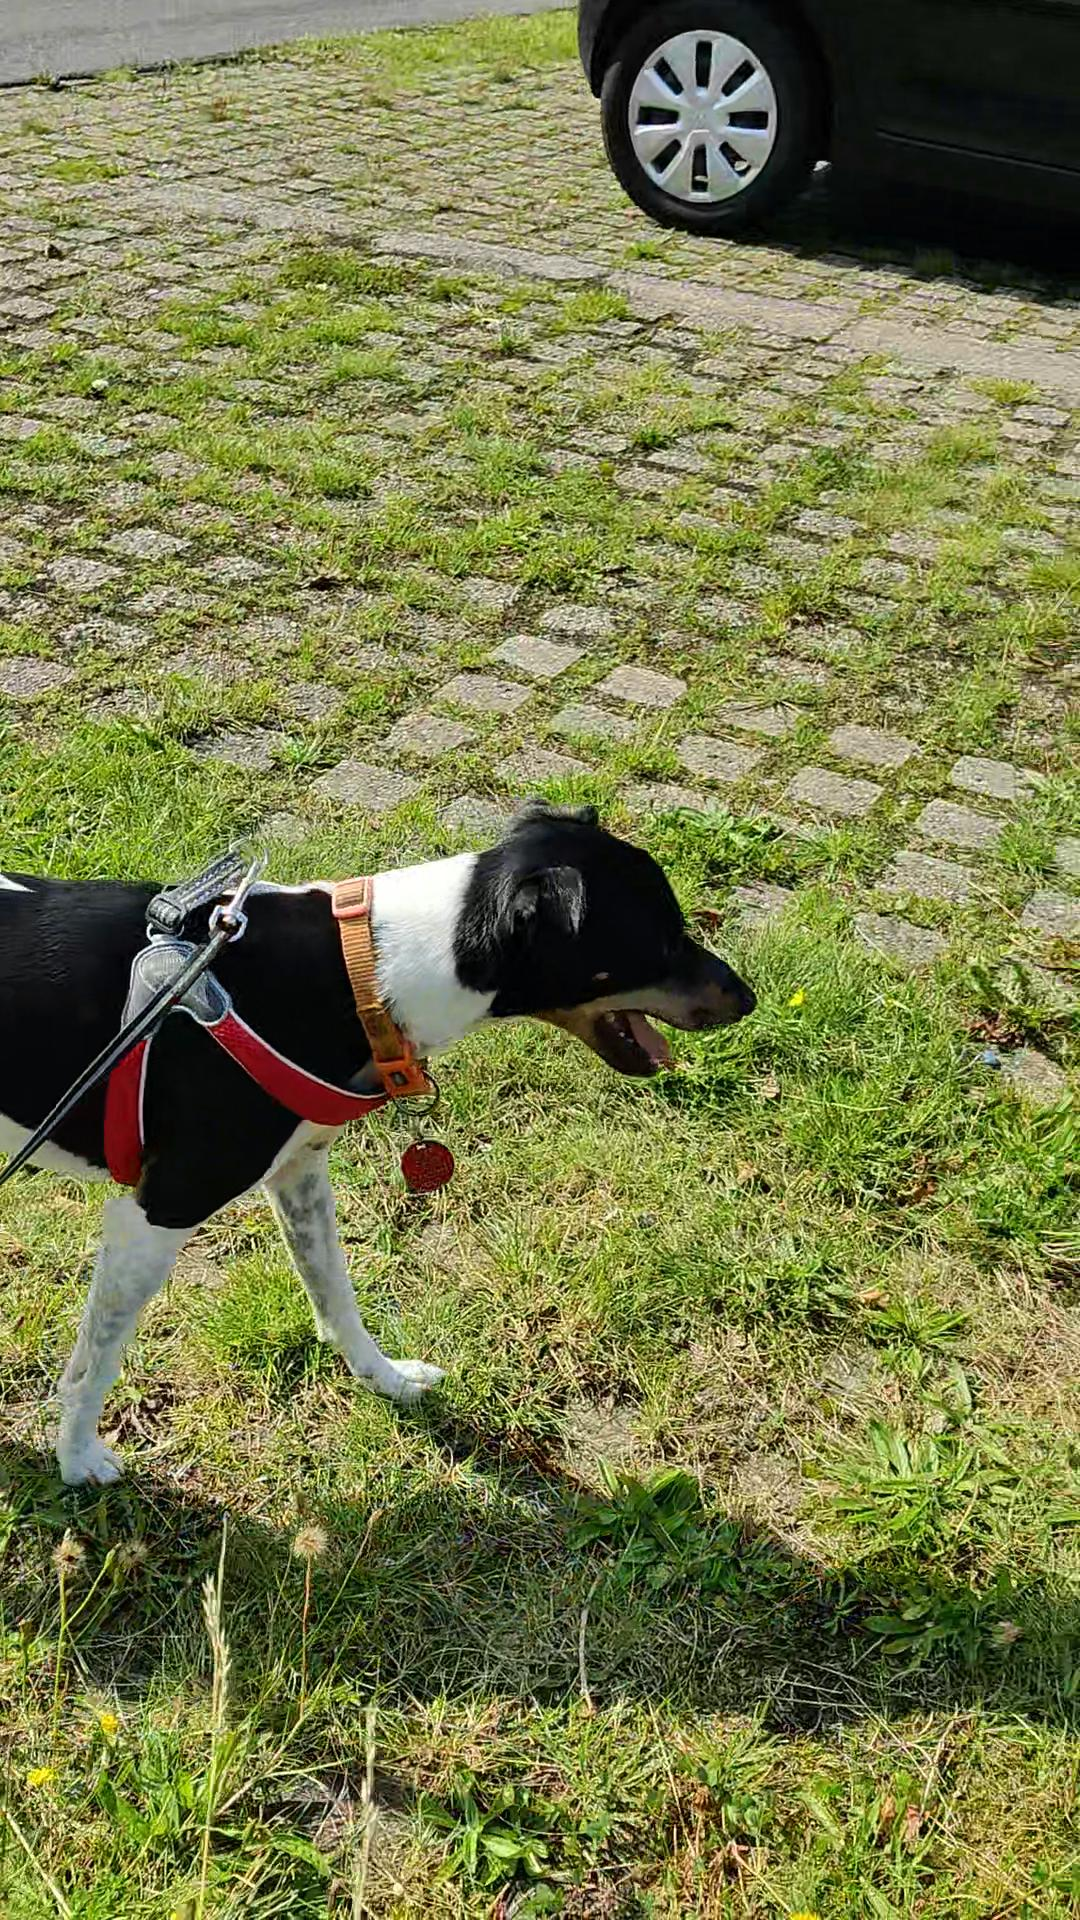Dog: (0, 783, 769, 1501)
